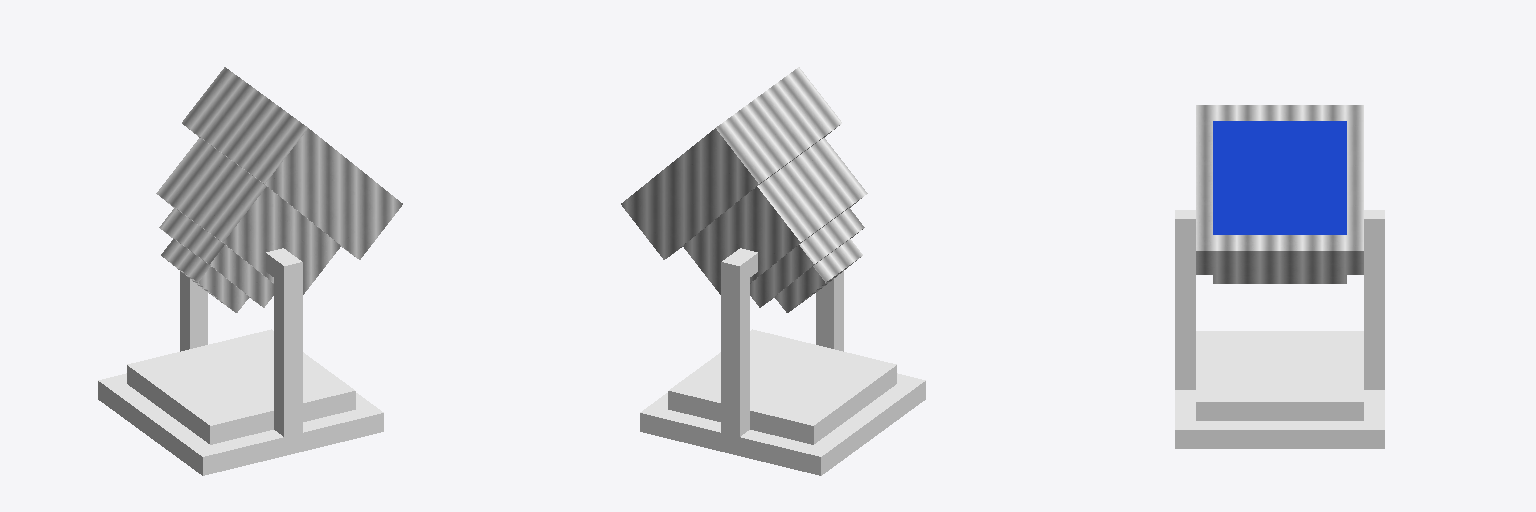
The picture shows the model from 3 angles: view 1: azimuth 30°, elevation 25°; view 2: azimuth 150°, elevation 25°; view 3: azimuth 270°, elevation 25°; orthographic projection.
Parts seen in each view (by area): view 1: Mesh, group_0; view 2: Mesh, group_0; view 3: group_0, Mesh.
Part boxes in pixels (x1,y1,x2,y2): Mesh: (156, 67, 402, 312); group_0: (98, 248, 383, 475); Mesh: (621, 67, 867, 312); group_0: (640, 248, 925, 475); group_0: (1175, 210, 1384, 448); Mesh: (1196, 105, 1363, 283).
Size of the model in its own units: 0.5821 by 0.8215 by 0.5.
Materials: 4 (1 with a texture image).